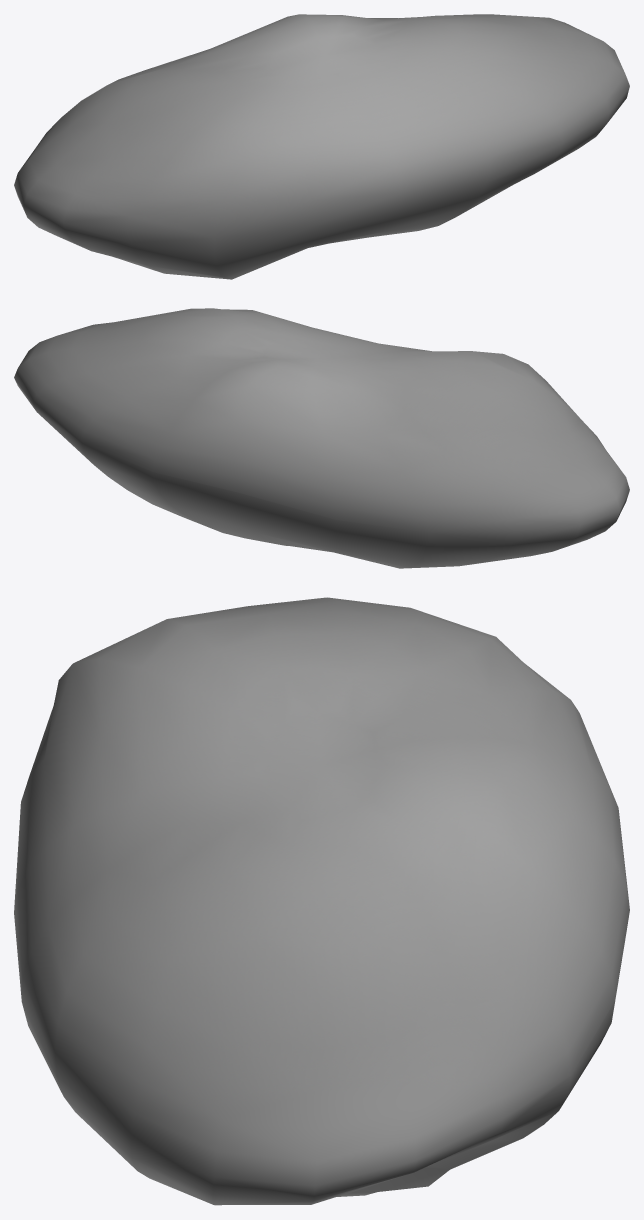
The model's file is rock1.fbx.
3 renders of one model, top to bottom at view 1: azimuth 30°, elevation 25°; view 2: azimuth 150°, elevation 25°; view 3: azimuth 270°, elevation 25°, orthographic. The views are drawn at different scales.
Visible parts, largest first — view 1: pSphere1; view 2: pSphere1; view 3: pSphere1.
Boxes of the visible parts, bbox=[...] form: pSphere1: bbox=[14, 14, 629, 279]; pSphere1: bbox=[14, 308, 629, 568]; pSphere1: bbox=[14, 597, 629, 1205].
Size of the model in its own units: 6.96 by 1.99 by 3.24.
